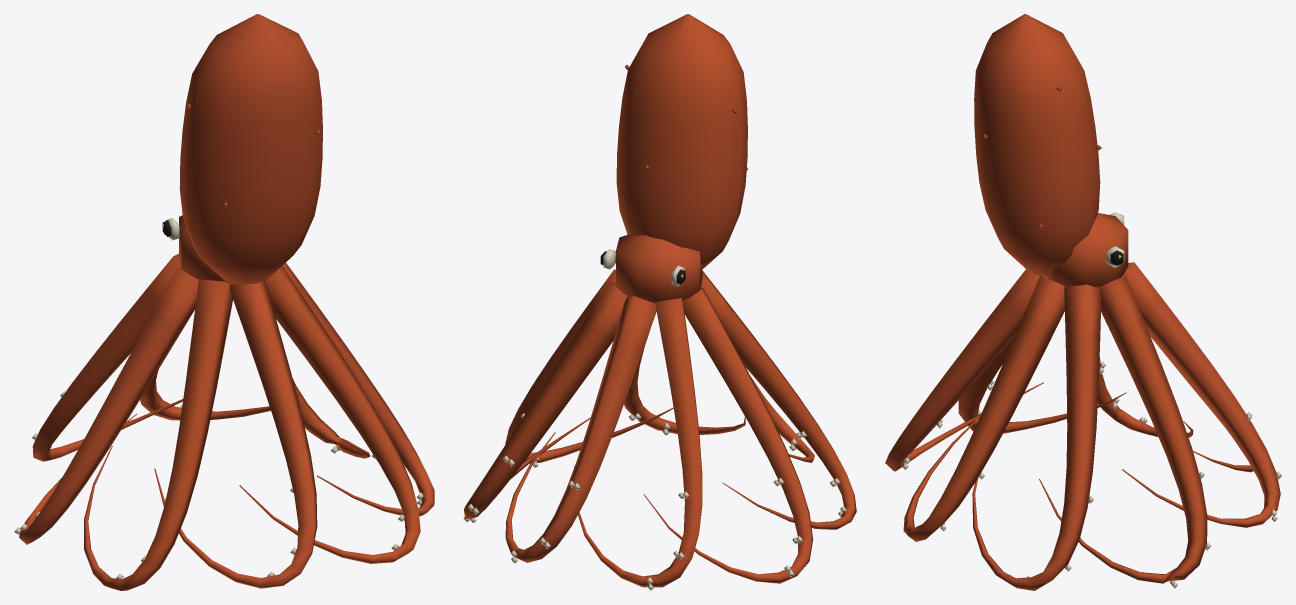
File: fish_giant_octopus.glb
3 renders of one model, left to right at view 1: azimuth 30°, elevation 25°; view 2: azimuth 150°, elevation 25°; view 3: azimuth 270°, elevation 25°, orthographic. The views are drawn at different scales.
Bounding box in the file's own units: 1 × 1.4 × 1.01.
